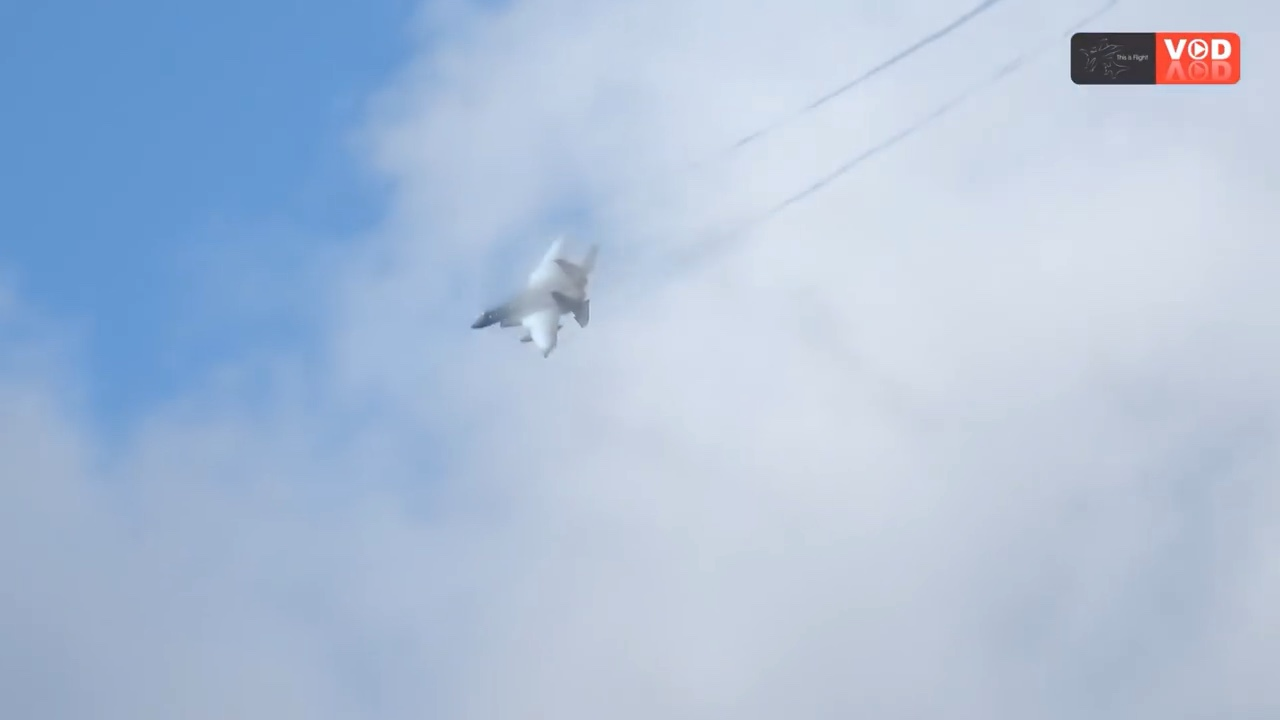f15: (467, 226, 608, 366)
